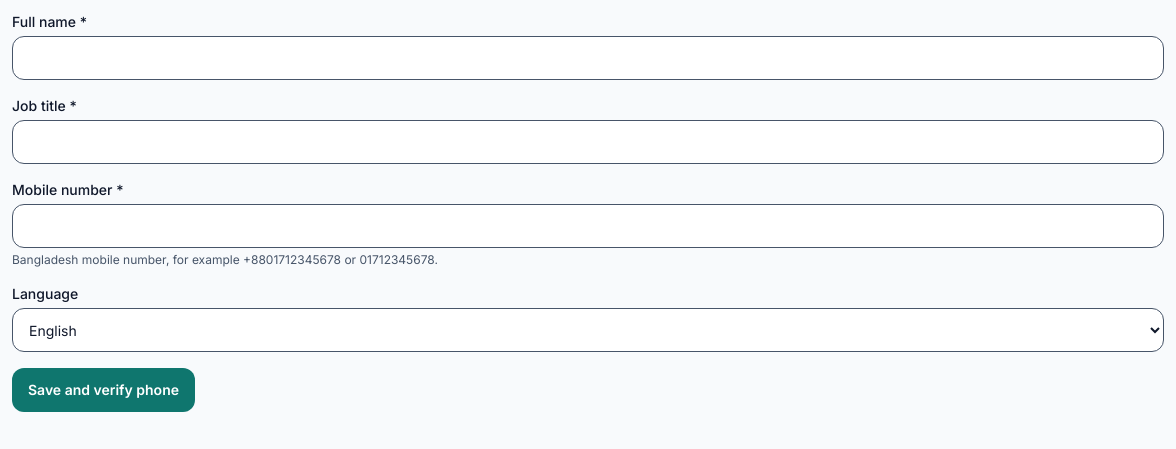
Test case: ContactStep › validates a Bangladesh mobile number before saving
The image size is (1176, 449).
Type "Rahim Uddin" into the field labelled "Full name *".
click(588, 58); type("Rahim Uddin")  # box [12,36,1164,80]
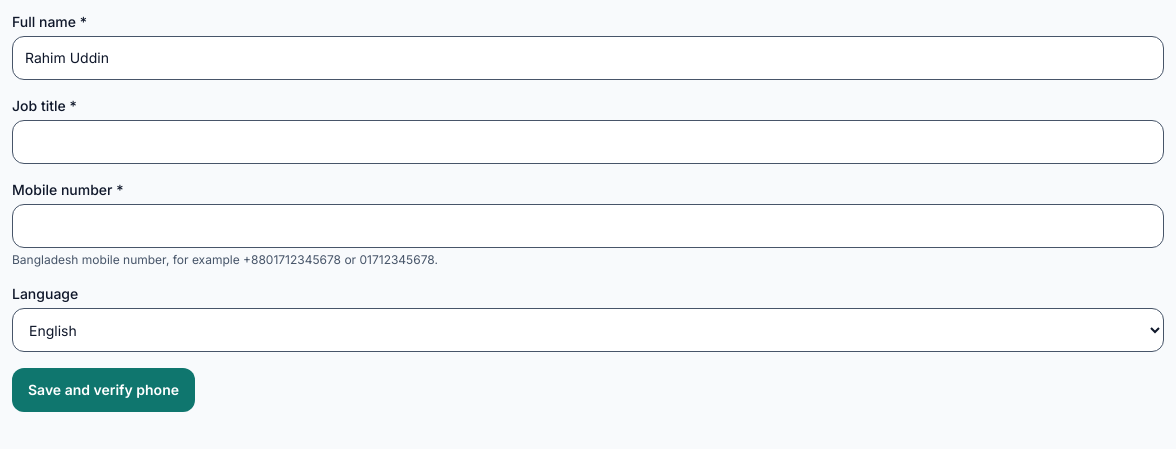
Type "Director" into the field labelled "Job title *".
click(588, 142); type("Director")  # box [12,120,1164,164]
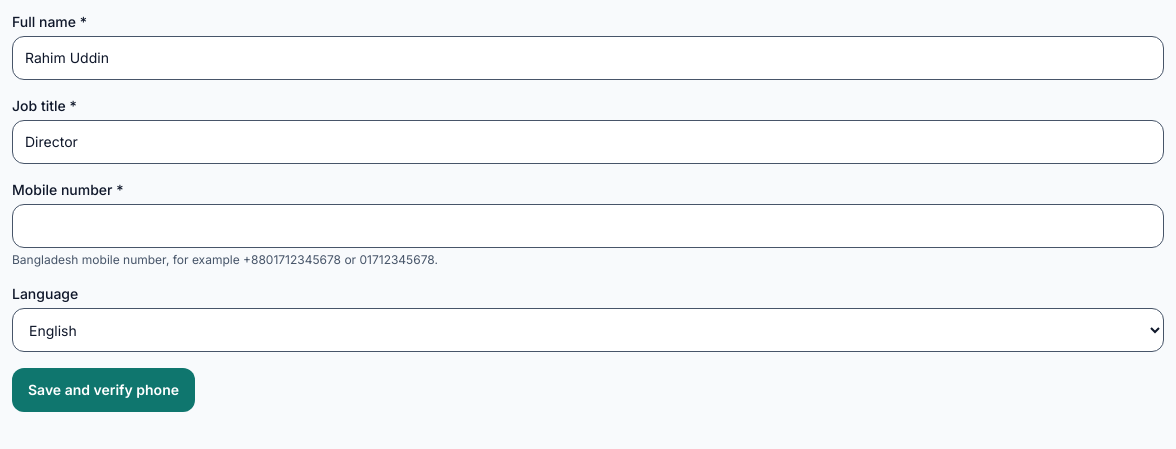
Type "01212345678" into the field labelled "Mobile number *".
click(588, 226); type("01212345678")  # box [12,204,1164,248]
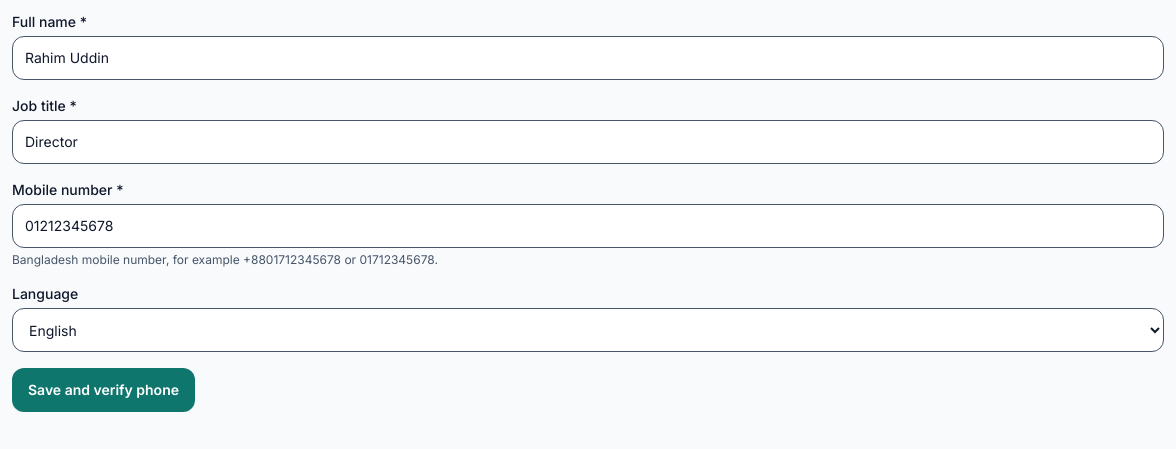
Click the button "Save and verify phone".
click(104, 390)  # box [12,368,195,412]
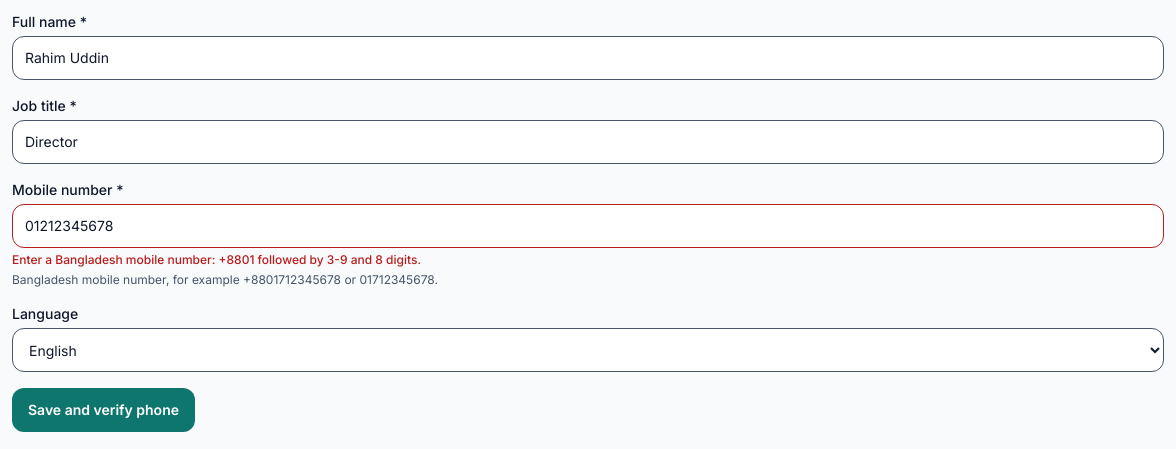
Expected: the text "Enter a Bangladesh mobile number" is shown, [12,252,421,267]
